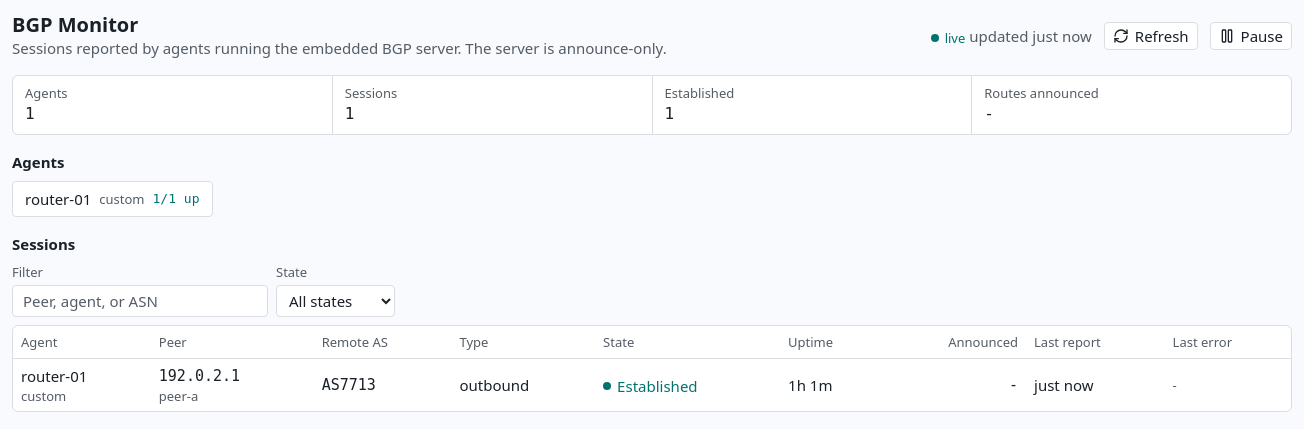
it: BGP Monitor Page › pauses live refresh
Click the button "Pause". click: coordinates (1251, 36)
box: [1210,22,1292,50]
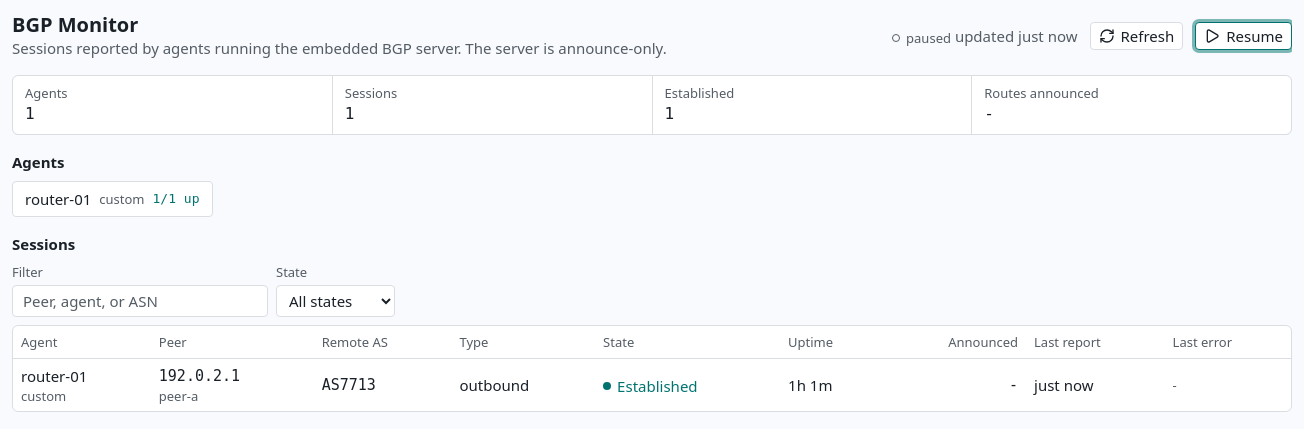
Now the text "paused" is shown, box [892,28,951,46]
Now the button "Resume" is shown, box [1195,22,1292,50]
